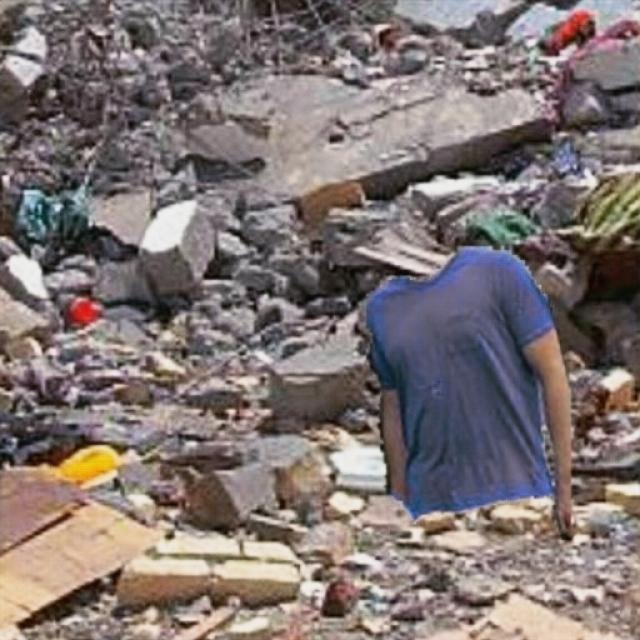Person in Rubble: (366, 246, 570, 539)
